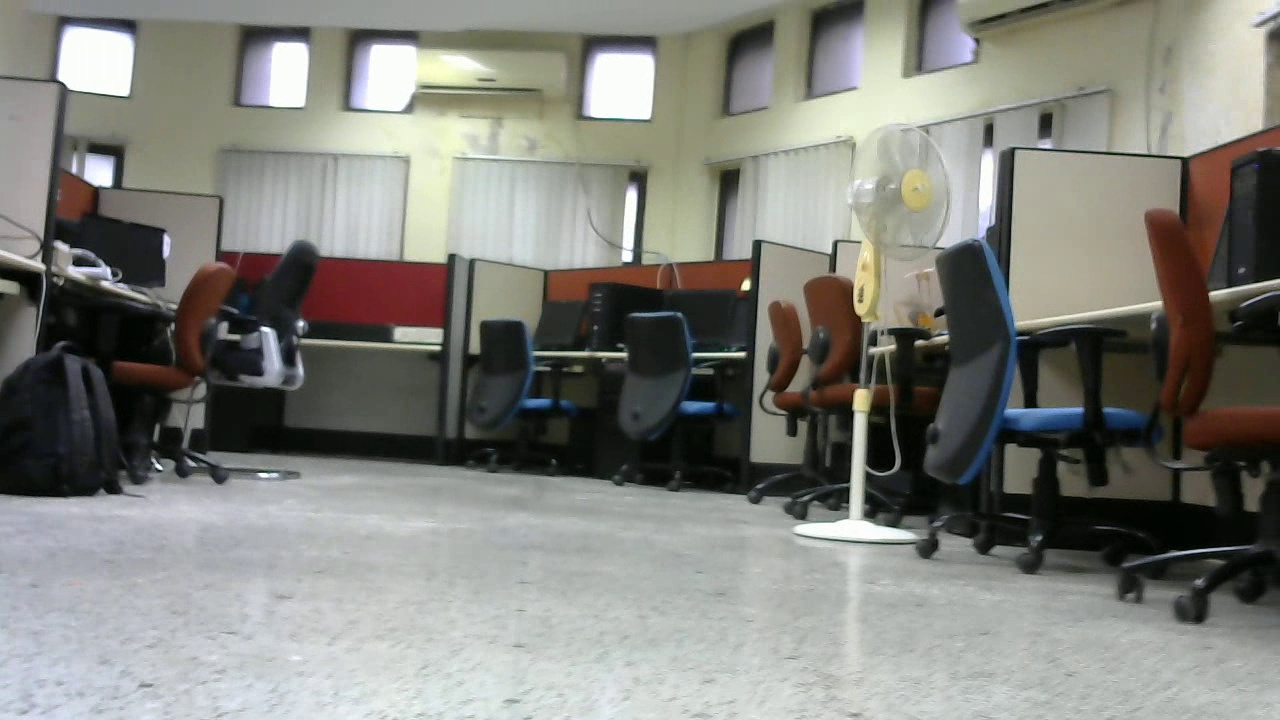chair: (907, 245, 1155, 598), (1109, 208, 1280, 627), (737, 274, 951, 524), (188, 248, 343, 484), (91, 251, 229, 454), (586, 298, 730, 491), (449, 307, 585, 476)
